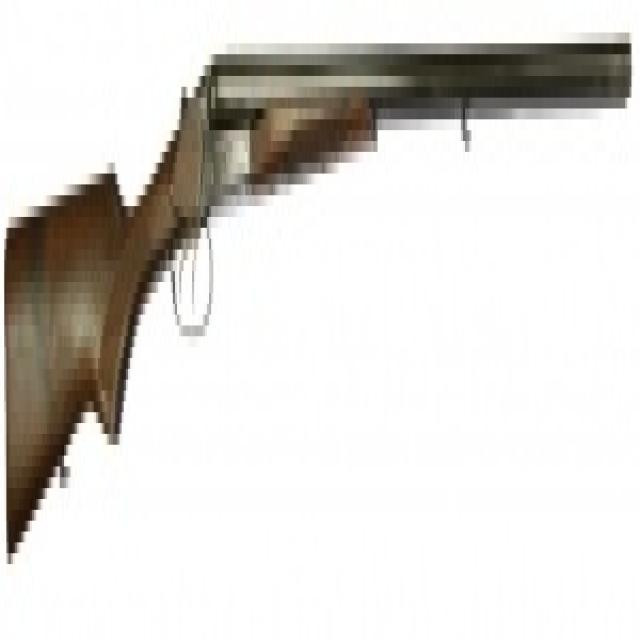rifle: (1, 12, 635, 598)
